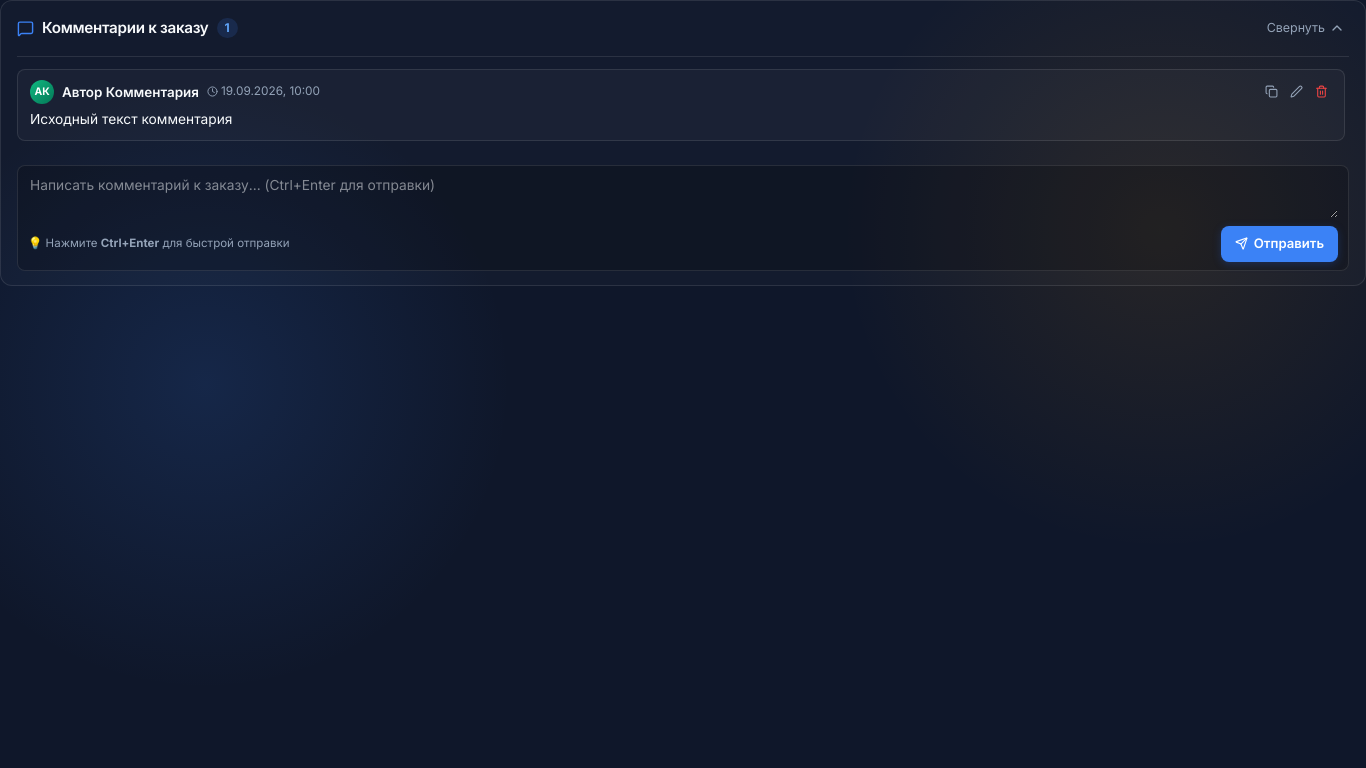
Test: OrderCommentsSection › allows author to edit their comment and saves updated text
Expected: the text "Исходный текст комментария" is shown, top-left (30, 111), bottom-right (232, 127)
Click the button titled "Редактировать комментарий". click: (1296, 92)
box: top-left (1286, 81), bottom-right (1307, 102)
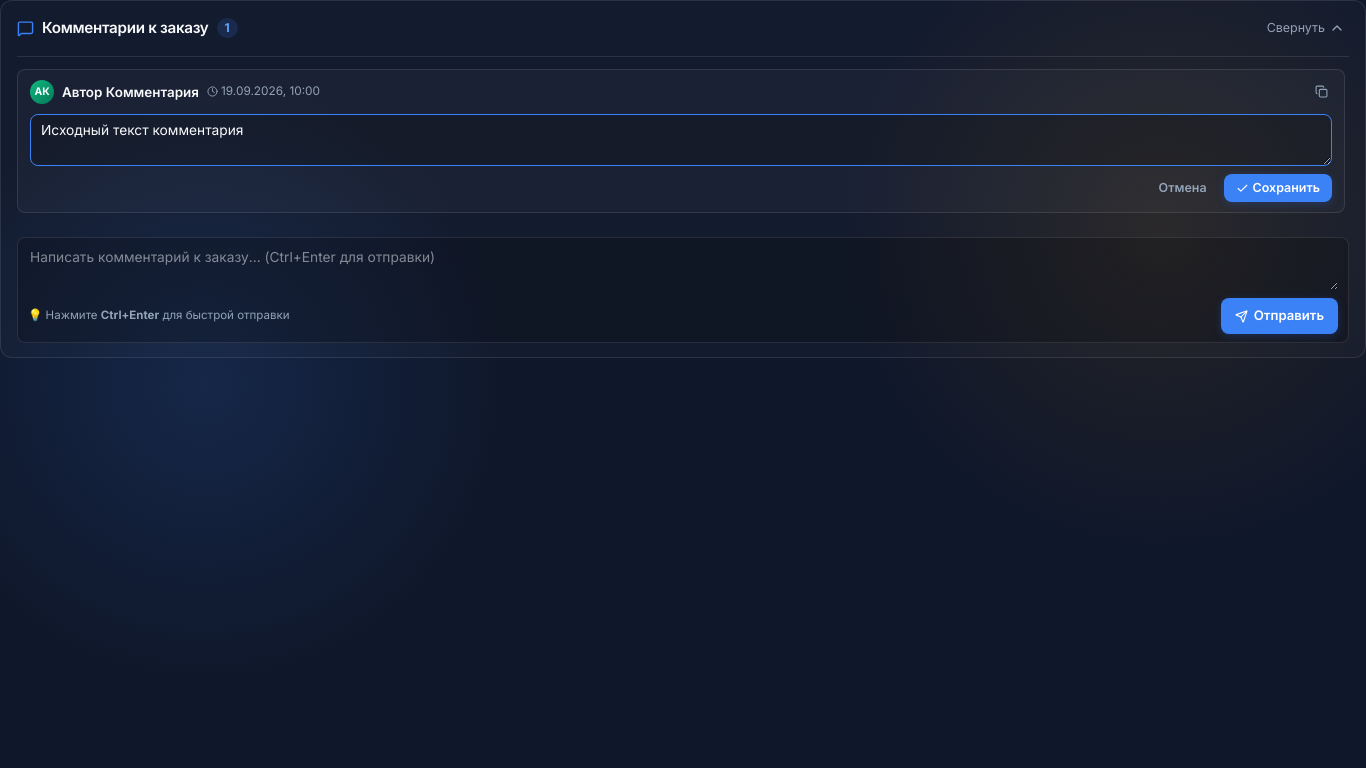
Now the text box showing "Исходный текст комментария" is shown
Change text
Replace the text in the text box showing "Исходный текст комментария" with "Отредактированный текст комментария". click: (681, 140)
box: top-left (30, 114), bottom-right (1332, 166)
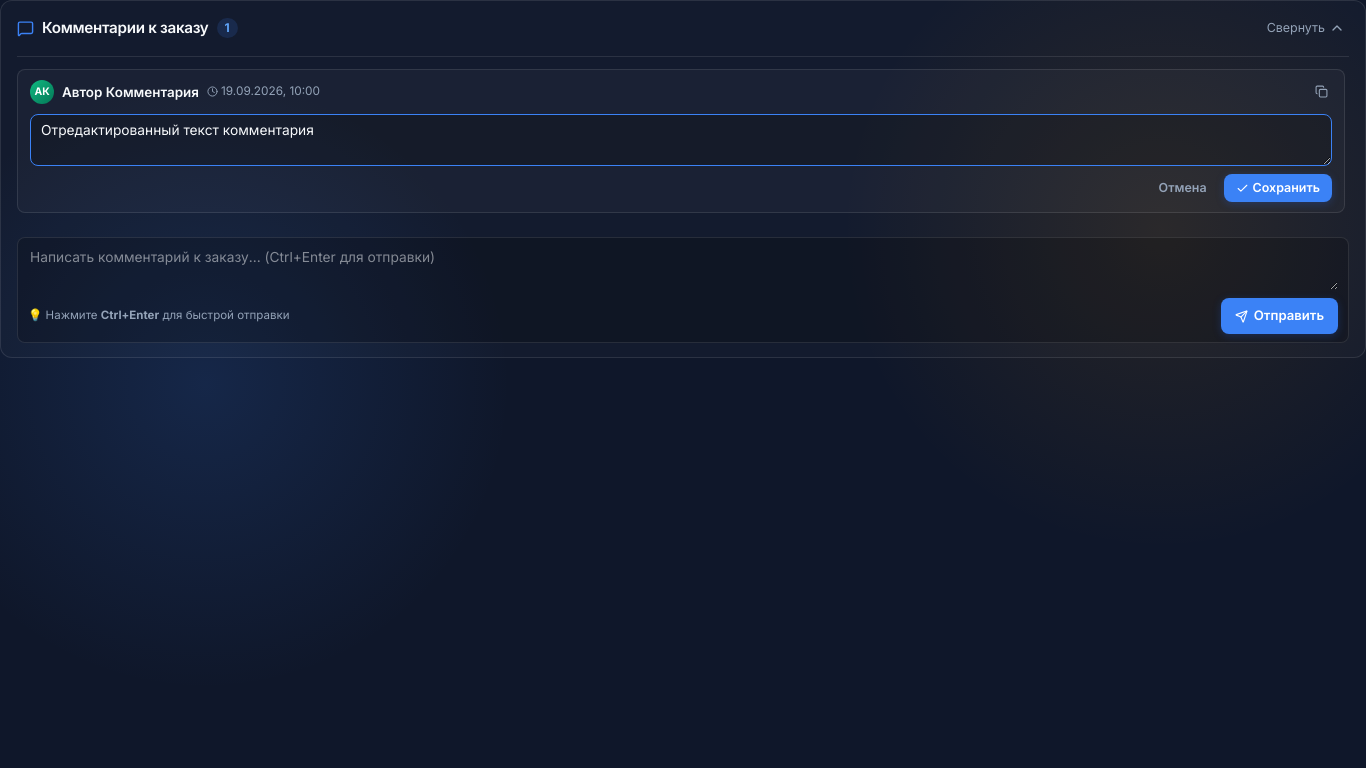
Click save button
Click the button "Сохранить". click: (1278, 188)
box: top-left (1224, 174), bottom-right (1332, 202)
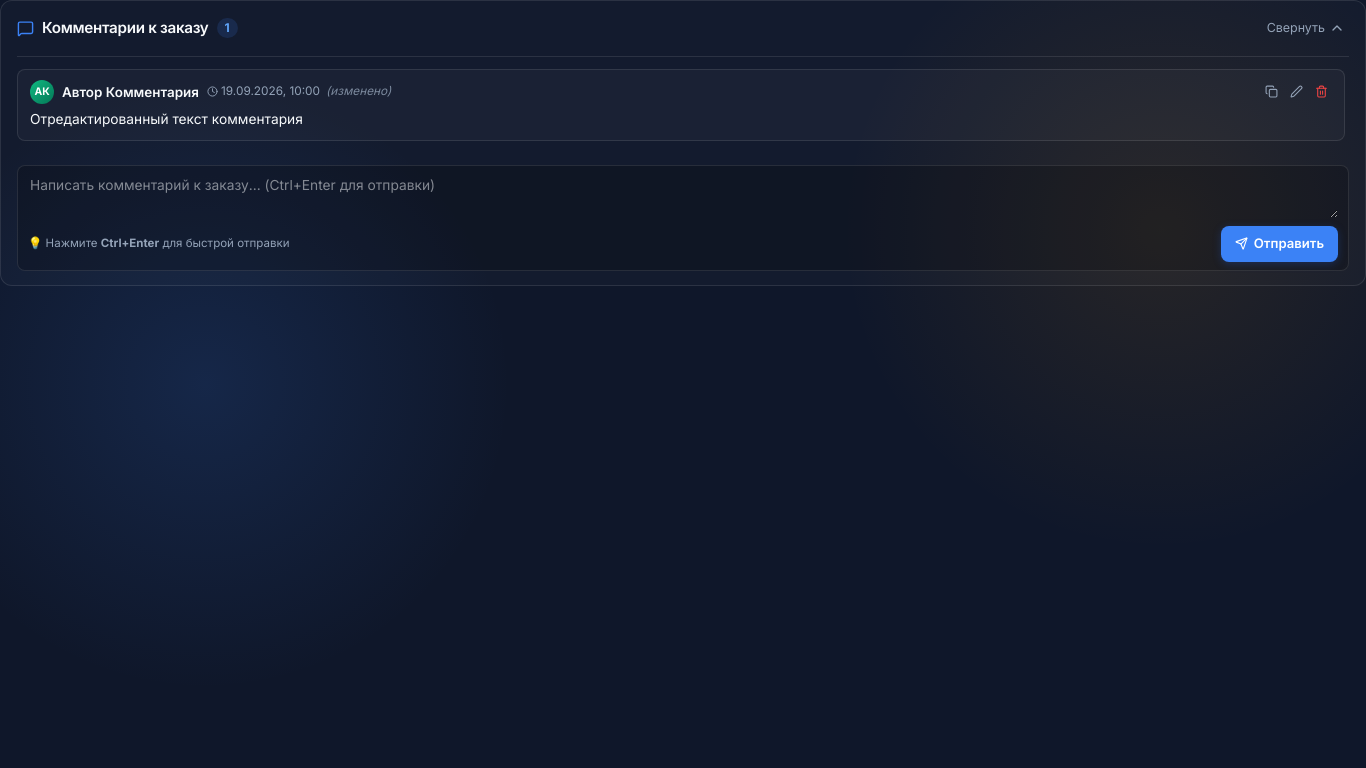
Now the text "Отредактированный текст комментария" is shown, box top-left (30, 111), bottom-right (303, 127)
Now the text "(изменено)" is shown, box top-left (326, 83), bottom-right (391, 101)
